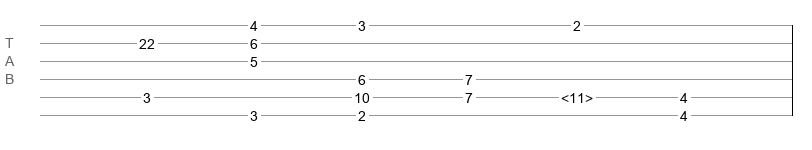10: (354, 90, 370, 100)
2: (358, 108, 366, 118), (573, 18, 581, 28)
22: (139, 36, 155, 46)
3: (143, 90, 151, 100), (250, 108, 258, 118), (358, 18, 366, 28)
4: (250, 18, 258, 28), (680, 108, 688, 118), (680, 90, 688, 100)
5: (250, 54, 258, 64)
6: (250, 36, 258, 46), (358, 72, 366, 82)
7: (465, 90, 473, 100), (465, 72, 473, 82)
harmonic: (561, 90, 593, 100)
